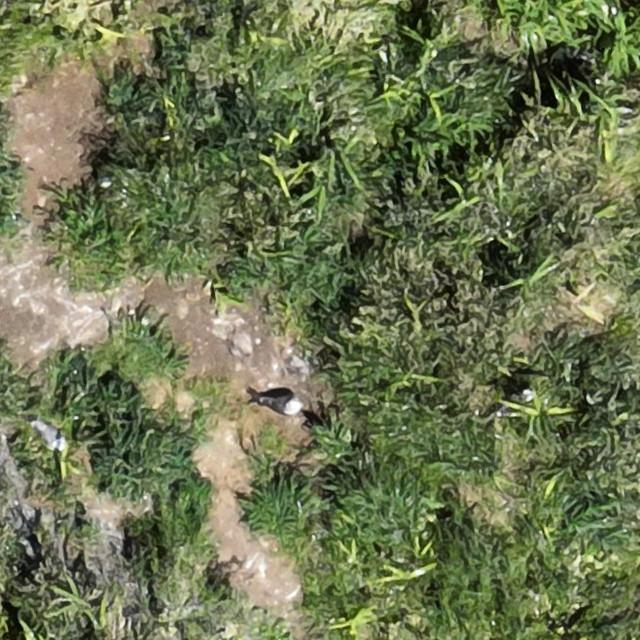umineko: (261, 396, 301, 416), (36, 422, 63, 450)
